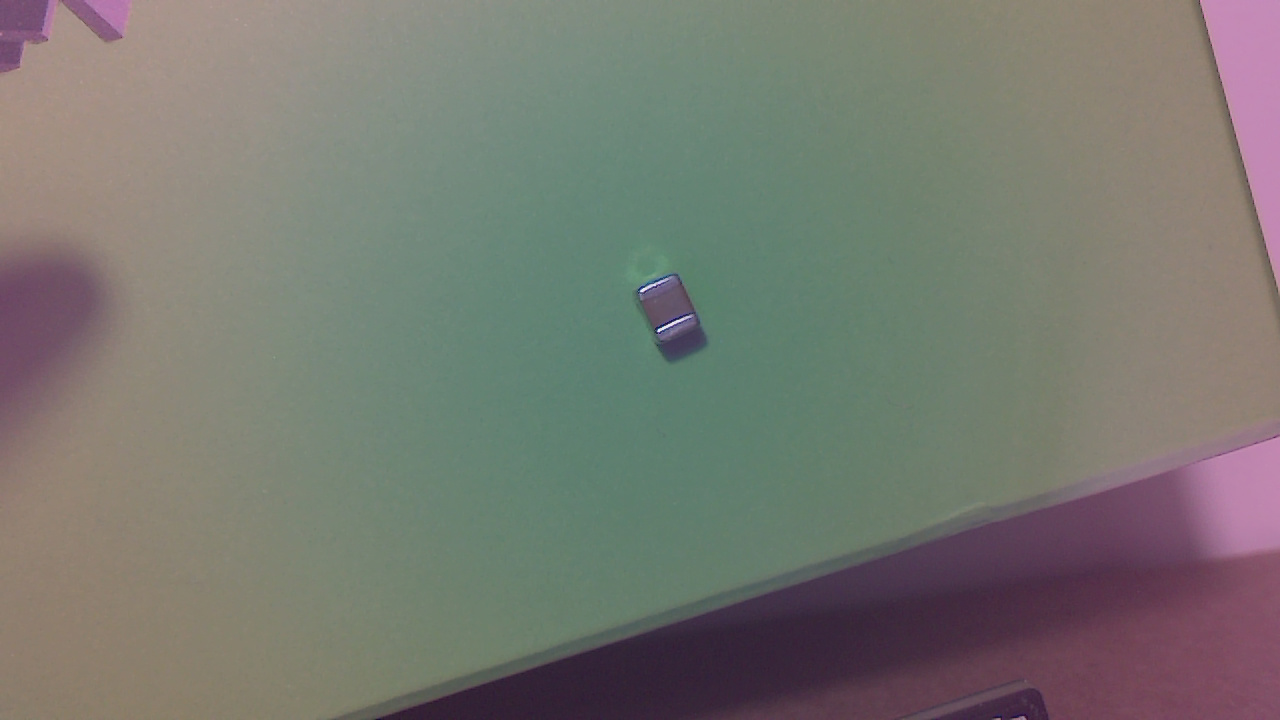Condensator: (641, 277, 701, 359)
